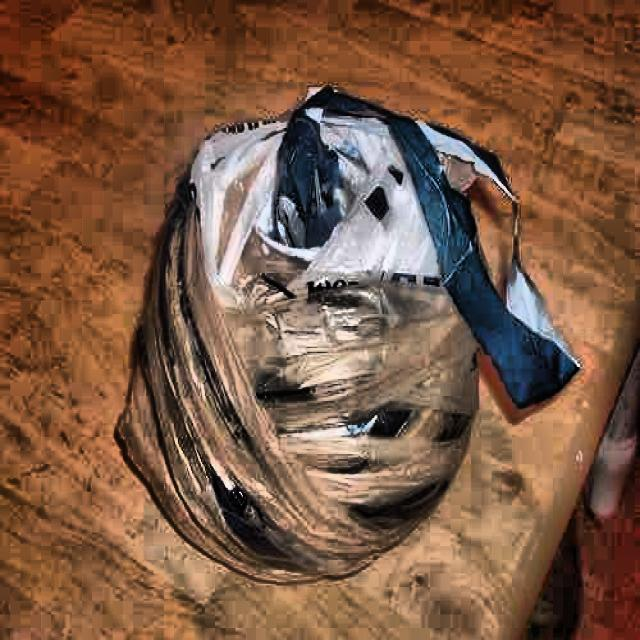Plastic: (95, 77, 587, 604)
